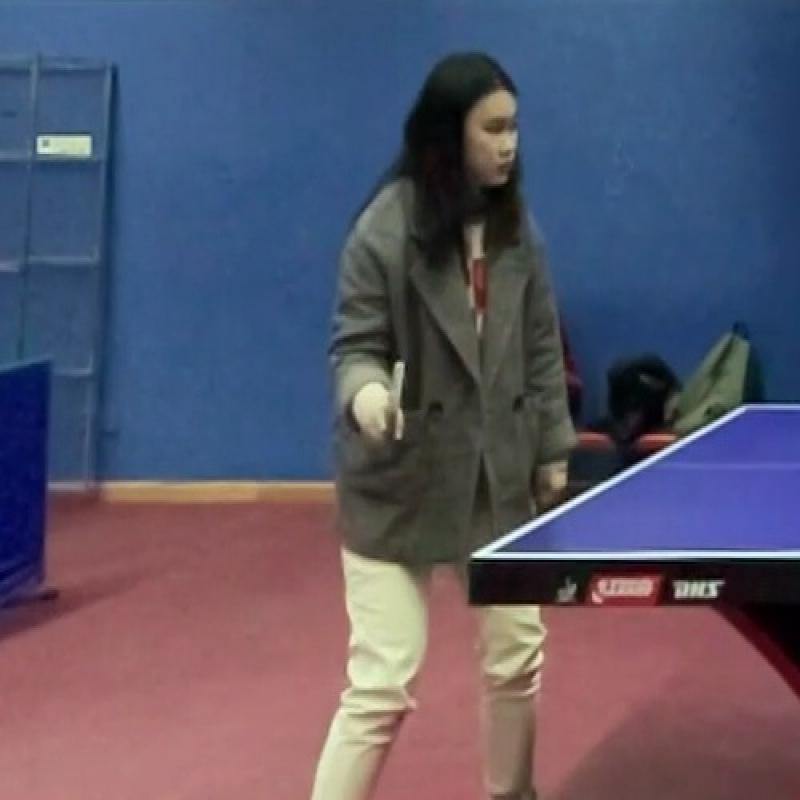bats: (362, 354, 436, 456)
